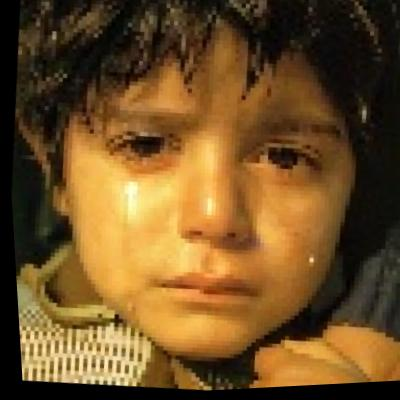sad: (42, 0, 371, 365)
